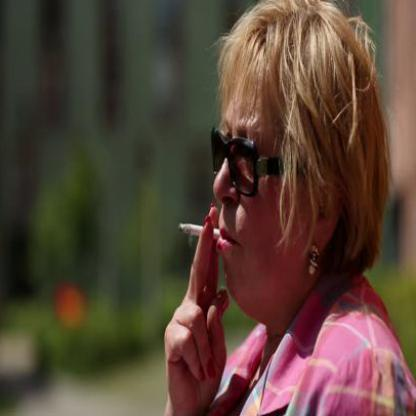cigarette: (176, 219, 223, 242)
person: (204, 0, 414, 415)
